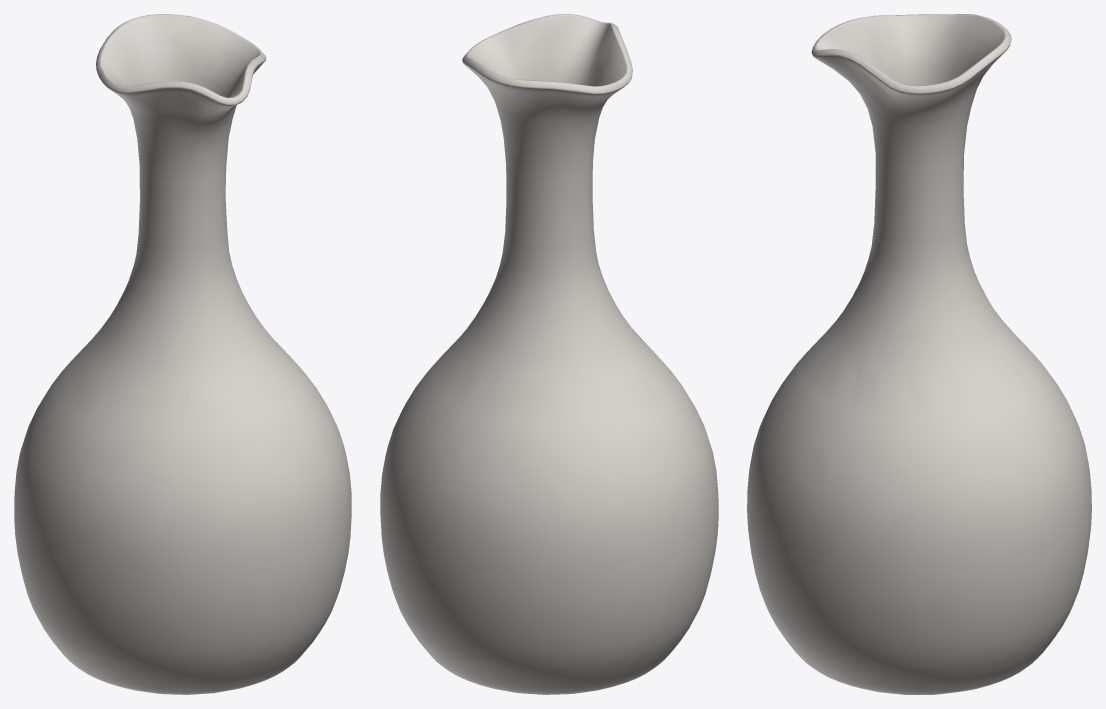
Rendered from ceramic_vase_01.glb.
3 renders of one model, left to right at view 1: azimuth 30°, elevation 25°; view 2: azimuth 150°, elevation 25°; view 3: azimuth 270°, elevation 25°, orthographic. The views are drawn at different scales.
Parts seen in each view (by area): view 1: ceramic_vase_01; view 2: ceramic_vase_01; view 3: ceramic_vase_01.
Part boxes in pixels (x1,y1,x2,y2): ceramic_vase_01: (14, 14, 351, 694); ceramic_vase_01: (380, 14, 718, 694); ceramic_vase_01: (747, 14, 1091, 694).
Bounding box in the file's own units: 0.2036 × 0.4003 × 0.2036.
1 material, 1 textured.
